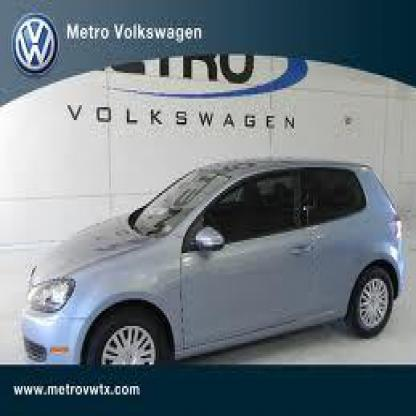Vehicle: (22, 156, 408, 369)
